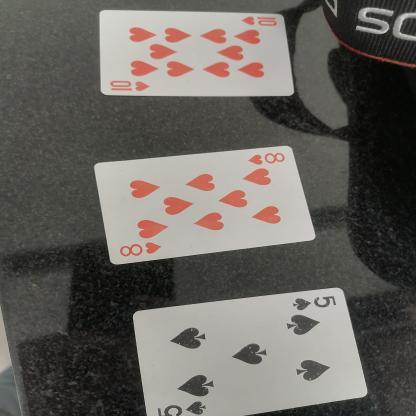10H: (234, 16, 284, 34), (108, 74, 153, 94)
5S: (282, 292, 346, 315)
8H: (243, 148, 292, 174), (115, 236, 165, 261)
